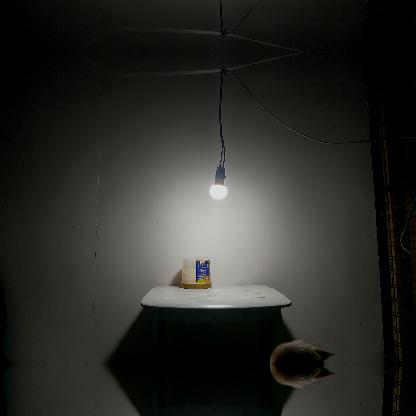Lady-s-Choice: (180, 258, 212, 288)
